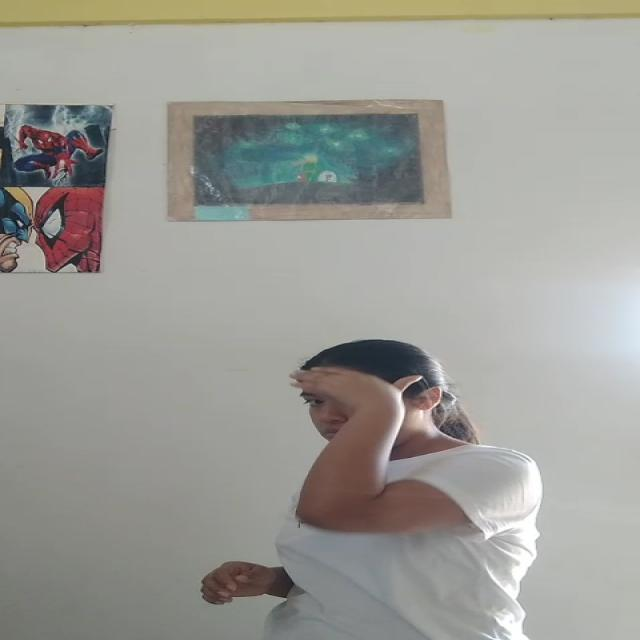7_mano_rostro: (304, 366, 416, 511)
